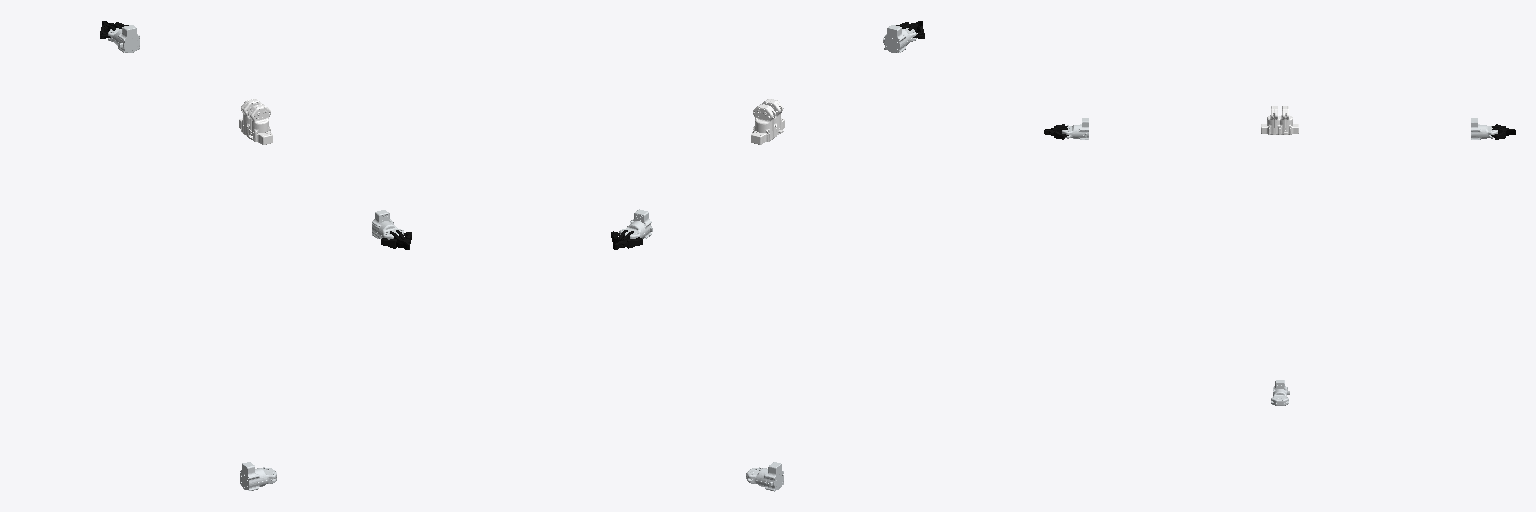
--- What the picture shows (computed from the rendered views, not written in the file) ---
Views: 3 orthographic renders of the robot side by side, from view 1: azimuth 30°, elevation 25°; view 2: azimuth 150°, elevation 25°; view 3: azimuth 270°, elevation 25°.
Model Robot with 30 links and 29 joints (20 revolute, 1 prismatic, 8 fixed), rooted at base_link, posed every joint at zero.
Visible links, largest first — view 1: right_arm_base_link, base_link, left_gripper_base_link, right_gripper_base_link; view 2: left_arm_base_link, base_link, right_gripper_base_link, left_gripper_base_link; view 3: none.
Link boxes in pixels (left/top/right/bottom): right_arm_base_link: left=248, top=104, right=272, bottom=144; base_link: left=240, top=462, right=276, bottom=490; left_gripper_base_link: left=108, top=25, right=139, bottom=52; right_gripper_base_link: left=372, top=210, right=403, bottom=239; left_arm_base_link: left=751, top=104, right=775, bottom=144; base_link: left=746, top=462, right=783, bottom=491; right_gripper_base_link: left=883, top=25, right=916, bottom=52; left_gripper_base_link: left=619, top=209, right=652, bottom=238.
Size in the robot's own frame: 0.1429 by 2.16 by 1.5 metres.
Meshes: 16 distinct files referenced, 17 mesh visuals loaded (7 binary STL); not drawn: 13 (reference not matched to a file when rendering).

The robot description file, URDF, robot "Robot":
<?xml version="1.0" ?>
<robot name="Robot">
  <!-- ===================== 基座与升降、双臂：保持不变 ===================== -->
  <!-- base_link -->
  <link name="base_link">
    <inertial>
      <origin xyz="-0.044044 4.1046E-05 0.35314" rpy="0 0 0"/>
      <mass value="62.34"/>
      <inertia ixx="2.4972" ixy="-5.136E-05" ixz="-0.026499" iyy="2.9084" iyz="-0.00014713" izz="1.479"/>
    </inertial>
    <visual>
      <origin xyz="0 0 0" rpy="0 0 0"/>
      <geometry>
        <mesh filename="TR4_torso_description/meshes/base_link.STL"/>
      </geometry>
      <material name=""><color rgba="0.89412 0.91373 0.92941 1"/></material>
    </visual>
    <collision>
      <origin xyz="0 0 0" rpy="0 0 0"/>
      <geometry>
        <mesh filename="TR4_torso_description/meshes/base_link.STL"/>
      </geometry>
    </collision>
  </link>

  <link name="torso">
    <inertial>
      <origin xyz="0.00027401 -0.14991 0.91143" rpy="0 0 0"/>
      <mass value="3.3193"/>
      <inertia ixx="0.016893" ixy="-1.2784E-05" ixz="-7.5907E-05" iyy="0.026595" iyz="-0.0010839" izz="0.018448"/>
    </inertial>
    <visual>
      <origin xyz="0 0 0" rpy="0 0 0"/>
      <geometry>
        <mesh filename="TR4_torso_description/meshes/torso.STL"/>
      </geometry>
      <material name=""><color rgba="0.43922 0.43922 0.43922 1"/></material>
    </visual>
    <collision>
      <origin xyz="0 0 0" rpy="0 0 0"/>
      <geometry>
        <mesh filename="TR4_torso_description/meshes/torso.STL"/>
      </geometry>
    </collision>
  </link>

  <!-- elevation joint -->
  <joint name="elevation" type="prismatic">
    <origin rpy="0 0 1.5708" xyz="-0.11205 -0.00063586 0.39566"/>
    <parent link="base_link"/>
    <child link="torso"/>
    <axis xyz="0 0 1"/>
    <limit effort="0" lower="0" upper="0" velocity="0"/>
  </joint>

  <!-- Base Link -->
  <link name="left_arm_base_link">
    <inertial>
      <origin rpy="0 0 0" xyz="-0.000433277303987328 -3.54664423471128E-05 0.0599427668933796"/>
      <mass value="0.841070778135659"/>
      <inertia ixx="0.0017261110801622" ixy="2.52746264980217E-06" ixz="-3.67690303614961E-05" iyy="0.00170987405835604" iyz="1.67996364994424E-06" izz="0.000904023422915791"/>
    </inertial>
    <visual>
      <origin rpy="0 0 0" xyz="0 0 0"/>
      <geometry>
        <mesh filename="rm_65_b_description/meshes/base_link.STL"/>
      </geometry>
      <material name="">
        <color rgba="1 1 1 1"/>
      </material>
    </visual>
    <collision>
      <origin rpy="0 0 0" xyz="0 0 0"/>
      <geometry>
        <mesh filename="rm_65_b_description/meshes/base_link.STL"/>
      </geometry>
    </collision>
  </link>
  <joint name="left_arm_mount_joint" type="fixed">
    <parent link="torso"/>
    <child link="left_arm_base_link"/>
    <origin rpy="-3.137776 -1.570000 -0.004613" xyz="0.025635 -0.158686 0.942540"/>
  </joint>
  <!-- Link1 -->
  <link name="left_arm_Link1">
    <inertial>
      <origin rpy="0 0 0" xyz="1.2226305431569E-08 0.0211079974844683 -0.0251854220842269"/>
      <mass value="0.593563443690403"/>
      <inertia ixx="0.00126614120341847" ixy="-1.294980943835E-08" ixz="-9.80120923066996E-09" iyy="0.00118168178300364" iyz="-0.00021121727444415" izz="0.00056135241627747"/>
    </inertial>
    <visual>
      <origin rpy="0 0 0" xyz="0 0 0"/>
      <geometry>
        <mesh filename="rm_65_b_description/meshes/link1.STL"/>
      </geometry>
      <material name="">
        <color rgba="1 1 1 1"/>
      </material>
    </visual>
    <collision>
      <origin rpy="0 0 0" xyz="0 0 0"/>
      <geometry>
        <mesh filename="rm_65_b_description/meshes/link1.STL"/>
      </geometry>
    </collision>
  </link>
  <!-- Joint1 -->
  <joint name="left_arm_joint1" type="revolute">
    <origin rpy="0 0 0" xyz="0 0 0.2405"/>
    <parent link="left_arm_base_link"/>
    <child link="left_arm_Link1"/>
    <axis xyz="0 0 1"/>
    <limit effort="60" lower="-3.1" upper="3.1" velocity="3.14"/>
  </joint>
  <!-- Link2 -->
  <link name="left_arm_Link2">
    <inertial>
      <origin rpy="0 0 0" xyz="0.152256463426163 4.75383656106654E-07 -0.00620260383607792"/>
      <mass value="0.864175046869043"/>
      <inertia ixx="0.00089150298478414" ixy="-2.23268489334765E-08" ixz="0.00156246461035015" iyy="0.00733754343083901" iyz="6.28110889329165E-09" izz="0.00697869103915473"/>
    </inertial>
    <visual>
      <origin rpy="0 0 0" xyz="0 0 0"/>
      <geometry>
        <mesh filename="rm_65_b_description/meshes/link2.STL"/>
      </geometry>
      <material name="">
        <color rgba="1 1 1 1"/>
      </material>
    </visual>
    <collision>
      <origin rpy="0 0 0" xyz="0 0 0"/>
      <geometry>
        <mesh filename="rm_65_b_description/meshes/link2.STL"/>
      </geometry>
    </collision>
  </link>
  <!-- Joint2 -->
  <joint name="left_arm_joint2" type="revolute">
    <origin rpy="1.5708 -1.5708 0" xyz="0 0 0"/>
    <parent link="left_arm_Link1"/>
    <child link="left_arm_Link2"/>
    <axis xyz="0 0 1"/>
    <limit effort="60" lower="-2.268" upper="2.268" velocity="3.14"/>
  </joint>
  <!-- Link3 -->
  <link name="left_arm_Link3">
    <inertial>
      <origin rpy="0 0 0" xyz="5.05312670989961E-06 -0.0595925663694732 0.010569069212336"/>
      <mass value="0.289633681624654"/>
      <inertia ixx="0.00063737100450158" ixy="-7.05261293649751E-08" ixz="-3.86643272239426E-08" iyy="0.00015648388095025" iyz="-0.00014461035994916" izz="0.000614178164773085"/>
    </inertial>
    <visual>
      <origin rpy="0 0 0" xyz="0 0 0"/>
      <geometry>
        <mesh filename="rm_65_b_description/meshes/link3.STL"/>
      </geometry>
      <material name="">
        <color rgba="1 1 1 1"/>
      </material>
    </visual>
    <collision>
      <origin rpy="0 0 0" xyz="0 0 0"/>
      <geometry>
        <mesh filename="rm_65_b_description/meshes/link3.STL"/>
      </geometry>
    </collision>
  </link>
  <!-- Joint3 -->
  <joint name="left_arm_joint3" type="revolute">
    <origin rpy="0 0 1.5708" xyz="0.256 0 0"/>
    <parent link="left_arm_Link2"/>
    <child link="left_arm_Link3"/>
    <axis xyz="0 0 1"/>
    <limit effort="30" lower="-2.355" upper="2.355" velocity="3.92"/>
  </joint>
  <!-- Link4 -->
  <link name="left_arm_Link4">
    <inertial>
      <origin rpy="0 0 0" xyz="1.15516617405898E-06 -0.0180424468598241 -0.0215394748352687"/>
      <mass value="0.239419768320061"/>
      <inertia ixx="0.000285938919722783" ixy="3.07101359163101E-09" ixz="-2.21994118981953E-09" iyy="0.000262727540304212" iyz="4.4236583260078E-05" izz="0.000119888082791859"/>
    </inertial>
    <visual>
      <origin rpy="0 0 0" xyz="0 0 0"/>
      <geometry>
        <mesh filename="rm_65_b_description/meshes/link4.STL"/>
      </geometry>
      <material name="">
        <color rgba="1 1 1 1"/>
      </material>
    </visual>
    <collision>
      <origin rpy="0 0 0" xyz="0 0 0"/>
      <geometry>
        <mesh filename="rm_65_b_description/meshes/link4.STL"/>
      </geometry>
    </collision>
  </link>
  <!-- Joint4 -->
  <joint name="left_arm_joint4" type="revolute">
    <origin rpy="1.5708 0 0" xyz="0 -0.21 0"/>
    <parent link="left_arm_Link3"/>
    <child link="left_arm_Link4"/>
    <axis xyz="0 0 1"/>
    <limit effort="10" lower="-3.1" upper="3.1" velocity="3.92"/>
  </joint>
  <!-- Link5 -->
  <link name="left_arm_Link5">
    <inertial>
      <origin rpy="0 0 0" xyz="3.19794786262152E-06 -0.0593808368101458 0.00736804250989326"/>
      <mass value="0.218799761431678"/>
      <inertia ixx="0.000350540363914072" ixy="-3.41781619975602E-08" ixz="-1.77056457224373E-08" iyy="0.000104927867487581" iyz="-7.82431228461971E-05" izz="0.000334482418423629"/>
    </inertial>
    <visual>
      <origin rpy="0 0 0" xyz="0 0 0"/>
      <geometry>
        <mesh filename="rm_65_b_description/meshes/link5.STL"/>
      </geometry>
      <material name="">
        <color rgba="1 1 1 1"/>
      </material>
    </visual>
    <collision>
      <origin rpy="0 0 0" xyz="0 0 0"/>
      <geometry>
        <mesh filename="rm_65_b_description/meshes/link5.STL"/>
      </geometry>
    </collision>
  </link>
  <!-- Joint5 -->
  <joint name="left_arm_joint5" type="revolute">
    <origin rpy="-1.5708 0 0" xyz="0 0 0"/>
    <parent link="left_arm_Link4"/>
    <child link="left_arm_Link5"/>
    <axis xyz="0 0 1"/>
    <limit effort="10" lower="-2.233" upper="2.233" velocity="3.92"/>
  </joint>
  <!-- Link6 -->
  <link name="left_arm_Link6">
    <inertial>
      <origin rpy="0 0 0" xyz="0.000714234511756999 -0.000396718732824521 -0.0126723660946126"/>
      <mass value="0.0649018034311231"/>
      <inertia ixx="2.02766547502765E-05" ixy="-1.32505200276849E-06" ixz="-2.5845091522508E-08" iyy="1.87986725225022E-05" iyz="3.39471452125439E-09" izz="3.17885459163081E-05"/>
    </inertial>
    <visual>
      <origin rpy="0 0 0" xyz="0 0 0"/>
      <geometry>
        <mesh filename="rm_65_b_description/meshes/link6.STL"/>
      </geometry>
      <material name="">
        <color rgba="1 1 1 1"/>
      </material>
    </visual>
    <collision>
      <origin rpy="0 0 0" xyz="0 0 0"/>
      <geometry>
        <mesh filename="rm_65_b_description/meshes/link6.STL"/>
      </geometry>
    </collision>
  </link>
  <!-- Joint6 -->
  <joint name="left_arm_joint6" type="revolute">
    <origin rpy="1.5708 0 0" xyz="0 -0.144 0"/>
    <parent link="left_arm_Link5"/>
    <child link="left_arm_Link6"/>
    <axis xyz="0 0 1"/>
    <limit effort="10" lower="-6.28" upper="6.28" velocity="3.92"/>
  </joint>
  <joint name="left_gripper_eef_joint" type="fixed">
    <parent link="left_arm_Link6"/>
    <child link="left_gripper_base_link"/>
    <origin rpy="0 -1.5708 0" xyz="0 0 0"/>
  </joint>

  <!-- Base Link -->
  <link name="right_arm_base_link">
    <inertial>
      <origin rpy="0 0 0" xyz="-0.000433277303987328 -3.54664423471128E-05 0.0599427668933796"/>
      <mass value="0.841070778135659"/>
      <inertia ixx="0.0017261110801622" ixy="2.52746264980217E-06" ixz="-3.67690303614961E-05" iyy="0.00170987405835604" iyz="1.67996364994424E-06" izz="0.000904023422915791"/>
    </inertial>
    <visual>
      <origin rpy="0 0 0" xyz="0 0 0"/>
      <geometry>
        <mesh filename="rm_65_b_description/meshes/base_link.STL"/>
      </geometry>
      <material name="">
        <color rgba="1 1 1 1"/>
      </material>
    </visual>
    <collision>
      <origin rpy="0 0 0" xyz="0 0 0"/>
      <geometry>
        <mesh filename="rm_65_b_description/meshes/base_link.STL"/>
      </geometry>
    </collision>
  </link>
  <joint name="right_arm_mount_joint" type="fixed">
    <parent link="torso"/>
    <child link="right_arm_base_link"/>
    <origin rpy="-2.036165 -1.569019 2.035368" xyz="-0.025635 -0.158686 0.942540"/>
  </joint>
  <!-- Link1 -->
  <link name="right_arm_Link1">
    <inertial>
      <origin rpy="0 0 0" xyz="1.2226305431569E-08 0.0211079974844683 -0.0251854220842269"/>
      <mass value="0.593563443690403"/>
      <inertia ixx="0.00126614120341847" ixy="-1.294980943835E-08" ixz="-9.80120923066996E-09" iyy="0.00118168178300364" iyz="-0.00021121727444415" izz="0.00056135241627747"/>
    </inertial>
    <visual>
      <origin rpy="0 0 0" xyz="0 0 0"/>
      <geometry>
        <mesh filename="rm_65_b_description/meshes/link1.STL"/>
      </geometry>
      <material name="">
        <color rgba="1 1 1 1"/>
      </material>
    </visual>
    <collision>
      <origin rpy="0 0 0" xyz="0 0 0"/>
      <geometry>
        <mesh filename="rm_65_b_description/meshes/link1.STL"/>
      </geometry>
    </collision>
  </link>
  <!-- Joint1 -->
  <joint name="right_arm_joint1" type="revolute">
    <origin rpy="0 0 0" xyz="0 0 0.2405"/>
    <parent link="right_arm_base_link"/>
    <child link="right_arm_Link1"/>
    <axis xyz="0 0 1"/>
    <limit effort="60" lower="-3.1" upper="3.1" velocity="3.14"/>
  </joint>
  <!-- Link2 -->
  <link name="right_arm_Link2">
    <inertial>
      <origin rpy="0 0 0" xyz="0.152256463426163 4.75383656106654E-07 -0.00620260383607792"/>
      <mass value="0.864175046869043"/>
      <inertia ixx="0.00089150298478414" ixy="-2.23268489334765E-08" ixz="0.00156246461035015" iyy="0.00733754343083901" iyz="6.28110889329165E-09" izz="0.00697869103915473"/>
    </inertial>
    <visual>
      <origin rpy="0 0 0" xyz="0 0 0"/>
      <geometry>
        <mesh filename="rm_65_b_description/meshes/link2.STL"/>
      </geometry>
      <material name="">
        <color rgba="1 1 1 1"/>
      </material>
    </visual>
    <collision>
      <origin rpy="0 0 0" xyz="0 0 0"/>
      <geometry>
        <mesh filename="rm_65_b_description/meshes/link2.STL"/>
      </geometry>
    </collision>
  </link>
  <!-- Joint2 -->
  <joint name="right_arm_joint2" type="revolute">
    <origin rpy="1.5708 -1.5708 0" xyz="0 0 0"/>
    <parent link="right_arm_Link1"/>
    <child link="right_arm_Link2"/>
    <axis xyz="0 0 1"/>
    <limit effort="60" lower="-2.268" upper="2.268" velocity="3.14"/>
  </joint>
  <!-- Link3 -->
  <link name="right_arm_Link3">
    <inertial>
      <origin rpy="0 0 0" xyz="5.05312670989961E-06 -0.0595925663694732 0.010569069212336"/>
      <mass value="0.289633681624654"/>
      <inertia ixx="0.00063737100450158" ixy="-7.05261293649751E-08" ixz="-3.86643272239426E-08" iyy="0.00015648388095025" iyz="-0.00014461035994916" izz="0.000614178164773085"/>
    </inertial>
    <visual>
      <origin rpy="0 0 0" xyz="0 0 0"/>
      <geometry>
        <mesh filename="rm_65_b_description/meshes/link3.STL"/>
      </geometry>
      <material name="">
        <color rgba="1 1 1 1"/>
      </material>
    </visual>
    <collision>
      <origin rpy="0 0 0" xyz="0 0 0"/>
      <geometry>
        <mesh filename="rm_65_b_description/meshes/link3.STL"/>
      </geometry>
    </collision>
  </link>
  <!-- Joint3 -->
  <joint name="right_arm_joint3" type="revolute">
    <origin rpy="0 0 1.5708" xyz="0.256 0 0"/>
    <parent link="right_arm_Link2"/>
    <child link="right_arm_Link3"/>
    <axis xyz="0 0 1"/>
    <limit effort="30" lower="-2.355" upper="2.355" velocity="3.92"/>
  </joint>
  <!-- Link4 -->
  <link name="right_arm_Link4">
    <inertial>
      <origin rpy="0 0 0" xyz="1.15516617405898E-06 -0.0180424468598241 -0.0215394748352687"/>
      <mass value="0.239419768320061"/>
      <inertia ixx="0.000285938919722783" ixy="3.07101359163101E-09" ixz="-2.21994118981953E-09" iyy="0.000262727540304212" iyz="4.4236583260078E-05" izz="0.000119888082791859"/>
    </inertial>
    <visual>
      <origin rpy="0 0 0" xyz="0 0 0"/>
      <geometry>
        <mesh filename="rm_65_b_description/meshes/link4.STL"/>
      </geometry>
      <material name="">
        <color rgba="1 1 1 1"/>
      </material>
    </visual>
    <collision>
      <origin rpy="0 0 0" xyz="0 0 0"/>
      <geometry>
        <mesh filename="rm_65_b_description/meshes/link4.STL"/>
      </geometry>
    </collision>
  </link>
  <!-- Joint4 -->
  <joint name="right_arm_joint4" type="revolute">
    <origin rpy="1.5708 0 0" xyz="0 -0.21 0"/>
    <parent link="right_arm_Link3"/>
    <child link="right_arm_Link4"/>
    <axis xyz="0 0 1"/>
    <limit effort="10" lower="-3.1" upper="3.1" velocity="3.92"/>
  </joint>
  <!-- Link5 -->
  <link name="right_arm_Link5">
    <inertial>
      <origin rpy="0 0 0" xyz="3.19794786262152E-06 -0.0593808368101458 0.00736804250989326"/>
      <mass value="0.218799761431678"/>
      <inertia ixx="0.000350540363914072" ixy="-3.41781619975602E-08" ixz="-1.77056457224373E-08" iyy="0.000104927867487581" iyz="-7.82431228461971E-05" izz="0.000334482418423629"/>
    </inertial>
    <visual>
      <origin rpy="0 0 0" xyz="0 0 0"/>
      <geometry>
        <mesh filename="rm_65_b_description/meshes/link5.STL"/>
      </geometry>
      <material name="">
        <color rgba="1 1 1 1"/>
      </material>
    </visual>
    <collision>
      <origin rpy="0 0 0" xyz="0 0 0"/>
      <geometry>
        <mesh filename="rm_65_b_description/meshes/link5.STL"/>
      </geometry>
    </collision>
  </link>
  <!-- Joint5 -->
  <joint name="right_arm_joint5" type="revolute">
    <origin rpy="-1.5708 0 0" xyz="0 0 0"/>
    <parent link="right_arm_Link4"/>
    <child link="right_arm_Link5"/>
    <axis xyz="0 0 1"/>
    <limit effort="10" lower="-2.233" upper="2.233" velocity="3.92"/>
  </joint>
  <!-- Link6 -->
  <link name="right_arm_Link6">
    <inertial>
      <origin rpy="0 0 0" xyz="0.000714234511756999 -0.000396718732824521 -0.0126723660946126"/>
      <mass value="0.0649018034311231"/>
      <inertia ixx="2.02766547502765E-05" ixy="-1.32505200276849E-06" ixz="-2.5845091522508E-08" iyy="1.87986725225022E-05" iyz="3.39471452125439E-09" izz="3.17885459163081E-05"/>
    </inertial>
    <visual>
      <origin rpy="0 0 0" xyz="0 0 0"/>
      <geometry>
        <mesh filename="rm_65_b_description/meshes/link6.STL"/>
      </geometry>
      <material name="">
        <color rgba="1 1 1 1"/>
      </material>
    </visual>
    <collision>
      <origin rpy="0 0 0" xyz="0 0 0"/>
      <geometry>
        <mesh filename="rm_65_b_description/meshes/link6.STL"/>
      </geometry>
    </collision>
  </link>
  <!-- Joint6 -->
  <joint name="right_arm_joint6" type="revolute">
    <origin rpy="1.5708 0 0" xyz="0 -0.144 0"/>
    <parent link="right_arm_Link5"/>
    <child link="right_arm_Link6"/>
    <axis xyz="0 0 1"/>
    <limit effort="10" lower="-6.28" upper="6.28" velocity="3.92"/>
  </joint>
  <joint name="right_gripper_eef_joint" type="fixed">
    <parent link="right_arm_Link6"/>
    <child link="right_gripper_base_link"/>
    <origin rpy="0 -1.5708 0" xyz="0 0 0"/>
  </joint>

  <link name="left_gripper_base_link">
    <inertial>
      <origin xyz="0.041595 3.8229E-05 0.0084072" rpy="0 0 0"/>
      <mass value="0.21079"/>
      <inertia ixx="0.00015248" ixy="-4.2673E-07" ixz="-1.2221E-06" iyy="0.0001472" iyz="-7.0428E-07" izz="0.00015973"/>
    </inertial>
    <visual>
      <origin xyz="0 0 0" rpy="0 0 0"/>
      <geometry>
        <mesh filename="TR4_gripper_description/meshes/base_link.STL"/>
      </geometry>
      <material name=""><color rgba="0.89804 0.91765 0.92941 1"/></material>
    </visual>
    <collision>
      <origin xyz="0 0 0" rpy="0 0 0"/>
      <geometry>
        <mesh filename="TR4_gripper_description/meshes/base_link.STL"/>
      </geometry>
    </collision>
  </link>

  <link name="left_gripper_l_link1">
    <inertial>
      <origin xyz="0.025591 0.01098 0.00012619" rpy="0 0 0"/>
      <mass value="0.025052"/>
      <inertia ixx="3.8147E-06" ixy="8.0164E-07" ixz="-2.625E-08" iyy="4.5288E-06" iyz="1.6433E-08" izz="6.104E-06"/>
    </inertial>
    <visual>
      <origin xyz="0 0 0" rpy="0 0 0"/>
      <geometry>
        <mesh filename="TR4_gripper_description/meshes/l_link1.STL"/>
      </geometry>
      <material name=""><color rgba="0.11373 0.11373 0.11373 1"/></material>
    </visual>
    <collision>
      <origin xyz="0 0 0" rpy="0 0 0"/>
      <geometry>
        <mesh filename="TR4_gripper_description/meshes/l_link1.STL"/>
      </geometry>
    </collision>
  </link>

  <joint name="left_gripper_l_joint1" type="revolute">
    <origin xyz="0.096753 0.0306 0" rpy="0 0 0"/>
    <parent link="left_gripper_base_link"/>
    <child link="left_gripper_l_link1"/>
    <axis xyz="0 0 -1"/>
    <limit lower="-1.0472" upper="0" effort="0" velocity="0"/>
  </joint>

  <link name="left_gripper_l_link2">
    <inertial>
      <origin xyz="0.017854 -0.014801 0.00022853" rpy="0 0 0"/>
      <mass value="0.016248"/>
      <inertia ixx="1.1526E-06" ixy="3.4183E-07" ixz="6.0475E-09" iyy="1.8417E-06" iyz="-1.7073E-08" izz="1.9483E-06"/>
    </inertial>
    <visual>
      <origin xyz="0 0 0" rpy="0 0 0"/>
      <geometry>
        <mesh filename="TR4_gripper_description/meshes/l_link2.STL"/>
      </geometry>
      <material name=""><color rgba="0.1098 0.1098 0.1098 1"/></material>
    </visual>
    <collision>
      <origin xyz="0 0 0" rpy="0 0 0"/>
      <geometry>
        <mesh filename="TR4_gripper_description/meshes/l_link2.STL"/>
      </geometry>
    </collision>
  </link>

  <joint name="left_gripper_l_joint2" type="fixed">
    <origin xyz="0.056957 -0.0046989 0" rpy="0 0 0"/>
    <parent link="left_gripper_l_link1"/>
    <child link="left_gripper_l_link2"/>
  </joint>

  <link name="left_gripper_l_link3">
    <inertial>
      <origin xyz="-0.026661 0.0026672 -6.7314E-05" rpy="0 0 0"/>
      <mass value="0.012807"/>
      <inertia ixx="3.0944E-06" ixy="2.1726E-07" ixz="-6.4057E-09" iyy="5.8728E-06" iyz="1.2515E-10" izz="3.0853E-06"/>
    </inertial>
    <visual>
      <origin xyz="0 0 0" rpy="0 0 0"/>
      <geometry>
        <mesh filename="TR4_gripper_description/meshes/l_link3.STL"/>
      </geometry>
      <material name=""><color rgba="0.11373 0.11373 0.11373 1"/></material>
    </visual>
    <collision>
      <origin xyz="0 0 0" rpy="0 0 0"/>
      <geometry>
        <mesh filename="TR4_gripper_description/meshes/l_link3.STL"/>
      </geometry>
    </collision>
  </link>

  <joint name="left_gripper_l_joint3" type="revolute">
    <origin xyz="0.0065155 -0.017901 0" rpy="0 0 0"/>
    <parent link="left_gripper_l_link2"/>
    <child link="left_gripper_l_link3"/>
    <axis xyz="0 0 -1"/>
    <limit lower="-1.0472" upper="0" effort="0" velocity="0"/>
  </joint>

  <link name="left_gripper_r_link1">
    <inertial>
      <origin xyz="0.025591 -0.01098 0.00012554" rpy="0 0 0"/>
      <mass value="0.025051"/>
      <inertia ixx="3.8145E-06" ixy="-8.0156E-07" ixz="-2.639E-08" iyy="4.5285E-06" iyz="-1.6541E-08" izz="6.1038E-06"/>
    </inertial>
    <visual>
      <origin xyz="0 0 0" rpy="0 0 0"/>
      <geometry>
        <mesh filename="TR4_gripper_description/meshes/r_link1.STL"/>
      </geometry>
      <material name=""><color rgba="0.11373 0.11373 0.11373 1"/></material>
    </visual>
    <collision>
      <origin xyz="0 0 0" rpy="0 0 0"/>
      <geometry>
        <mesh filename="TR4_gripper_description/meshes/r_link1.STL"/>
      </geometry>
    </collision>
  </link>

  <joint name="left_gripper_r_joint1" type="revolute">
    <origin xyz="0.096753 -0.0306 0" rpy="0 0 0"/>
    <parent link="left_gripper_base_link"/>
    <child link="left_gripper_r_link1"/>
    <axis xyz="0 0 -1"/>
    <limit lower="0" upper="1.0472" effort="0" velocity="0"/>
  </joint>

  <link name="left_gripper_r_link2">
    <inertial>
      <origin xyz="0.017856 0.014802 0.00022741" rpy="0 0 0"/>
      <mass value="0.016244"/>
      <inertia ixx="1.1523E-06" ixy="-3.4181E-07" ixz="6.1573E-09" iyy="1.8414E-06" iyz="1.71E-08" izz="1.9481E-06"/>
    </inertial>
    <visual>
      <origin xyz="0 0 0" rpy="0 0 0"/>
      <geometry>
        <mesh filename="TR4_gripper_description/meshes/r_link2.STL"/>
      </geometry>
      <material name=""><color rgba="0.054902 0.054902 0.054902 1"/></material>
    </visual>
    <collision>
      <origin xyz="0 0 0" rpy="0 0 0"/>
      <geometry>
        <mesh filename="TR4_gripper_description/meshes/r_link2.STL"/>
      </geometry>
    </collision>
  </link>

  <joint name="left_gripper_r_joint2" type="fixed">
    <origin xyz="0.056957 0.0046989 0" rpy="0 0 0"/>
    <parent link="left_gripper_r_link1"/>
    <child link="left_gripper_r_link2"/>
  </joint>

  <link name="left_gripper_r_link3">
    <inertial>
      <origin xyz="-0.02666 -0.0026673 -6.7319E-05" rpy="0 0 0"/>
      <mass value="0.012807"/>
      <inertia ixx="3.0944E-06" ixy="-2.1728E-07" ixz="-6.4065E-09" iyy="5.8728E-06" iyz="-1.2491E-10" izz="3.0853E-06"/>
    </inertial>
    <visual>
      <origin xyz="0 0 0" rpy="0 0 0"/>
      <geometry>
        <mesh filename="TR4_gripper_description/meshes/r_link3.STL"/>
      </geometry>
      <material name=""><color rgba="0.11373 0.11373 0.11373 1"/></material>
    </visual>
    <collision>
      <origin xyz="0 0 0" rpy="0 0 0"/>
      <geometry>
        <mesh filename="TR4_gripper_description/meshes/r_link3.STL"/>
      </geometry>
    </collision>
  </link>

  <joint name="left_gripper_r_joint3" type="revolute">
    <origin xyz="0.0065147 0.017901 0" rpy="0 0 0"/>
    <parent link="left_gripper_r_link2"/>
    <child link="left_gripper_r_link3"/>
    <axis xyz="0 0 -1"/>
    <limit lower="0" upper="1.0472" effort="0" velocity="0"/>
  </joint>

  <!-- ================================================================== -->
  <!-- =============== 右侧 zc_gripper_rev3（带前缀 right_） ============== -->
  <link name="right_gripper_base_link">
    <inertial>
      <origin xyz="0.041595 3.8229E-05 0.0084072" rpy="0 0 0"/>
      <mass value="0.21079"/>
      <inertia ixx="0.00015248" ixy="-4.2673E-07" ixz="-1.2221E-06" iyy="0.0001472" iyz="-7.0428E-07" izz="0.00015973"/>
    </inertial>
    <visual>
      <origin xyz="0 0 0" rpy="0 0 0"/>
      <geometry>
        <mesh filename="TR4_gripper_description/meshes/base_link.STL"/>
      </geometry>
      <material name=""><color rgba="0.89804 0.91765 0.92941 1"/></material>
    </visual>
    <collision>
      <origin xyz="0 0 0" rpy="0 0 0"/>
      <geometry>
        <mesh filename="TR4_gripper_description/meshes/base_link.STL"/>
      </geometry>
    </collision>
  </link>

  <link name="right_gripper_l_link1">
    <inertial>
      <origin xyz="0.025591 0.01098 0.00012619" rpy="0 0 0"/>
      <mass value="0.025052"/>
      <inertia ixx="3.8147E-06" ixy="8.0164E-07" ixz="-2.625E-08" iyy="4.5288E-06" iyz="1.6433E-08" izz="6.104E-06"/>
    </inertial>
    <visual>
      <origin xyz="0 0 0" rpy="0 0 0"/>
      <geometry>
        <mesh filename="TR4_gripper_description/meshes/l_link1.STL"/>
      </geometry>
      <material name=""><color rgba="0.11373 0.11373 0.11373 1"/></material>
    </visual>
    <collision>
      <origin xyz="0 0 0" rpy="0 0 0"/>
      <geometry>
        <mesh filename="TR4_gripper_description/meshes/l_link1.STL"/>
      </geometry>
    </collision>
  </link>

  <joint name="right_gripper_l_joint1" type="revolute">
    <origin xyz="0.096753 0.0306 0" rpy="0 0 0"/>
    <parent link="right_gripper_base_link"/>
    <child link="right_gripper_l_link1"/>
    <axis xyz="0 0 -1"/>
    <limit lower="-1.0472" upper="0" effort="0" velocity="0"/>
  </joint>

  <link name="right_gripper_l_link2">
    <inertial>
      <origin xyz="0.017854 -0.014801 0.00022853" rpy="0 0 0"/>
      <mass value="0.016248"/>
      <inertia ixx="1.1526E-06" ixy="3.4183E-07" ixz="6.0475E-09" iyy="1.8417E-06" iyz="-1.7073E-08" izz="1.9483E-06"/>
    </inertial>
    <visual>
      <origin xyz="0 0 0" rpy="0 0 0"/>
      <geometry>
        <mesh filename="TR4_gripper_description/meshes/l_link2.STL"/>
      </geometry>
      <material name=""><color rgba="0.1098 0.1098 0.1098 1"/></material>
    </visual>
    <collision>
      <origin xyz="0 0 0" rpy="0 0 0"/>
      <geometry>
        <mesh filename="TR4_gripper_description/meshes/l_link2.STL"/>
      </geometry>
    </collision>
  </link>

  <joint name="right_gripper_l_joint2" type="fixed">
    <origin xyz="0.056957 -0.0046989 0" rpy="0 0 0"/>
    <parent link="right_gripper_l_link1"/>
    <child link="right_gripper_l_link2"/>
  </joint>


  <link name="right_gripper_l_link3">
    <inertial>
      <origin xyz="-0.026661 0.0026672 -6.7314E-05" rpy="0 0 0"/>
      <mass value="0.012807"/>
      <inertia ixx="3.0944E-06" ixy="2.1726E-07" ixz="-6.4057E-09" iyy="5.8728E-06" iyz="1.2515E-10" izz="3.0853E-06"/>
    </inertial>
    <visual>
      <origin xyz="0 0 0" rpy="0 0 0"/>
      <geometry>
        <mesh filename="TR4_gripper_description/meshes/l_link3.STL"/>
      </geometry>
      <material name=""><color rgba="0.11373 0.11373 0.11373 1"/></material>
    </visual>
    <collision>
      <origin xyz="0 0 0" rpy="0 0 0"/>
      <geometry>
        <mesh filename="TR4_gripper_description/meshes/l_link3.STL"/>
      </geometry>
    </collision>
  </link>

  <joint name="right_gripper_l_joint3" type="revolute">
    <origin xyz="0.0065155 -0.017901 0" rpy="0 0 0"/>
    <parent link="right_gripper_l_link2"/>
    <child link="right_gripper_l_link3"/>
    <axis xyz="0 0 -1"/>
    <limit lower="-1.0472" upper="0" effort="0" velocity="0"/>
  </joint>

  <link name="right_gripper_r_link1">
    <inertial>
      <origin xyz="0.025591 -0.01098 0.00012554" rpy="0 0 0"/>
      <mass value="0.025051"/>
      <inertia ixx="3.8145E-06" ixy="-8.0156E-07" ixz="-2.639E-08" iyy="4.5285E-06" iyz="-1.6541E-08" izz="6.1038E-06"/>
    </inertial>
    <visual>
      <origin xyz="0 0 0" rpy="0 0 0"/>
      <geometry>
        <mesh filename="TR4_gripper_description/meshes/r_link1.STL"/>
      </geometry>
      <material name=""><color rgba="0.11373 0.11373 0.11373 1"/></material>
    </visual>
    <collision>
      <origin xyz="0 0 0" rpy="0 0 0"/>
      <geometry>
        <mesh filename="TR4_gripper_description/meshes/r_link1.STL"/>
      </geometry>
    </collision>
  </link>

  <joint name="right_gripper_r_joint1" type="revolute">
    <origin xyz="0.096753 -0.0306 0" rpy="0 0 0"/>
    <parent link="right_gripper_base_link"/>
    <child link="right_gripper_r_link1"/>
    <axis xyz="0 0 -1"/>
    <limit lower="0" upper="1.0472" effort="0" velocity="0"/>
  </joint>

  <link name="right_gripper_r_link2">
    <inertial>
      <origin xyz="0.017856 0.014802 0.00022741" rpy="0 0 0"/>
      <mass value="0.016244"/>
      <inertia ixx="1.1523E-06" ixy="-3.4181E-07" ixz="6.1573E-09" iyy="1.8414E-06" iyz="1.71E-08" izz="1.9481E-06"/>
    </inertial>
    <visual>
      <origin xyz="0 0 0" rpy="0 0 0"/>
      <geometry>
        <mesh filename="TR4_gripper_description/meshes/r_link2.STL"/>
      </geometry>
      <material name=""><color rgba="0.054902 0.054902 0.054902 1"/></material>
    </visual>
    <collision>
      <origin xyz="0 0 0" rpy="0 0 0"/>
      <geometry>
        <mesh filename="TR4_gripper_description/meshes/r_link2.STL"/>
      </geometry>
    </collision>
  </link>

  <joint name="right_gripper_r_joint2" type="fixed">
    <origin xyz="0.056957 0.0046989 0" rpy="0 0 0"/>
    <parent link="right_gripper_r_link1"/>
    <child link="right_gripper_r_link2"/>
  </joint>

  <link name="right_gripper_r_link3">
    <inertial>
      <origin xyz="-0.02666 -0.0026673 -6.7319E-05" rpy="0 0 0"/>
      <mass value="0.012807"/>
      <inertia ixx="3.0944E-06" ixy="-2.1728E-07" ixz="-6.4065E-09" iyy="5.8728E-06" iyz="-1.2491E-10" izz="3.0853E-06"/>
    </inertial>
    <visual>
      <origin xyz="0 0 0" rpy="0 0 0"/>
      <geometry>
        <mesh filename="TR4_gripper_description/meshes/r_link3.STL"/>
      </geometry>
      <material name=""><color rgba="0.11373 0.11373 0.11373 1"/></material>
    </visual>
    <collision>
      <origin xyz="0 0 0" rpy="0 0 0"/>
      <geometry>
        <mesh filename="TR4_gripper_description/meshes/r_link3.STL"/>
      </geometry>
    </collision>
  </link>

  <joint name="right_gripper_r_joint3" type="revolute">
    <origin xyz="0.0065147 0.017901 0" rpy="0 0 0"/>
    <parent link="right_gripper_r_link2"/>
    <child link="right_gripper_r_link3"/>
    <axis xyz="0 0 -1"/>
    <limit lower="0" upper="1.0472" effort="0" velocity="0"/>
  </joint>
</robot>
